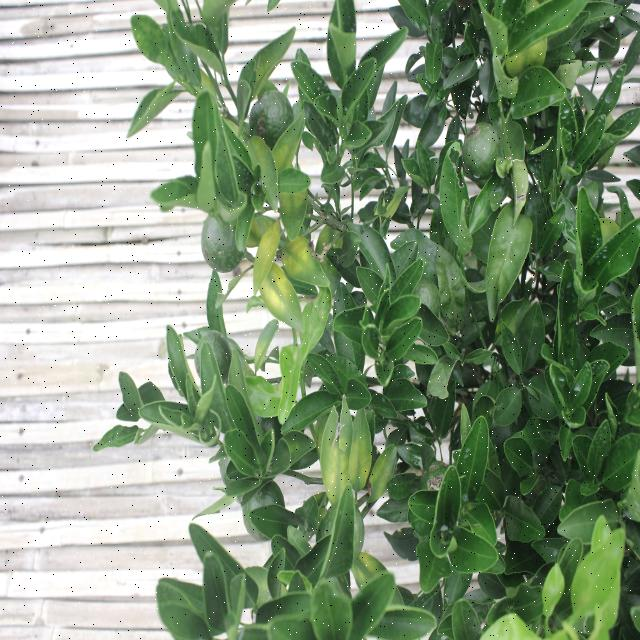greening: (344, 406, 376, 489), (280, 232, 326, 289), (261, 272, 303, 324), (324, 420, 344, 508)
